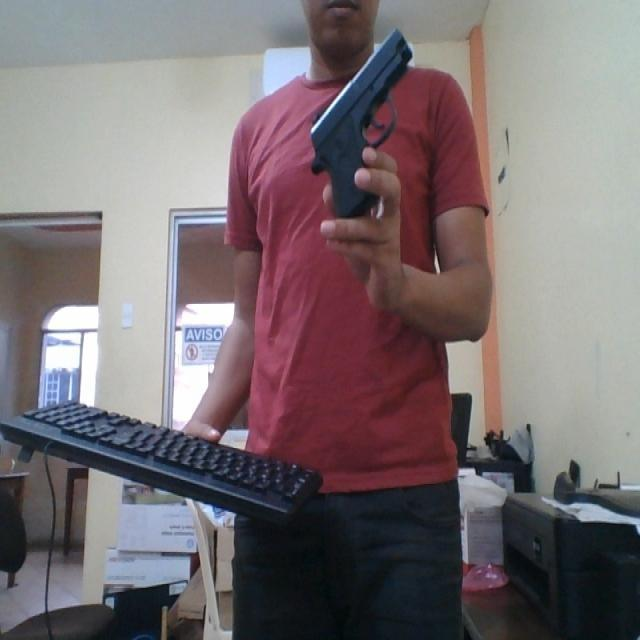weapon: (309, 26, 414, 221)
